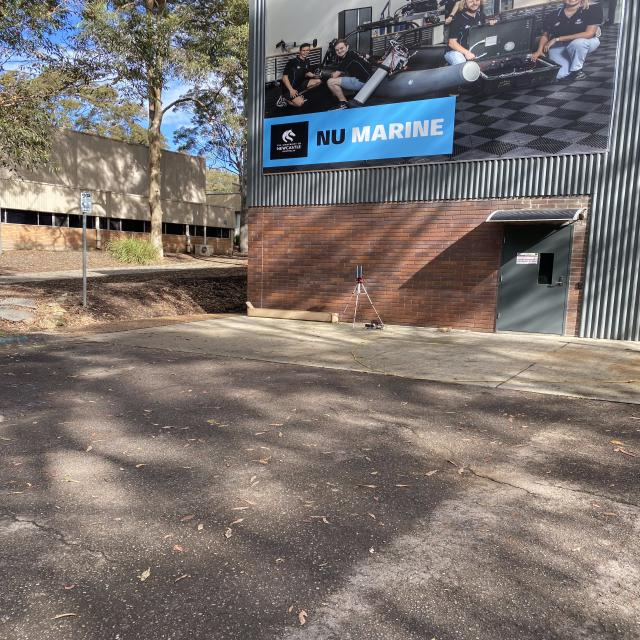matrix: (352, 260, 368, 282)
